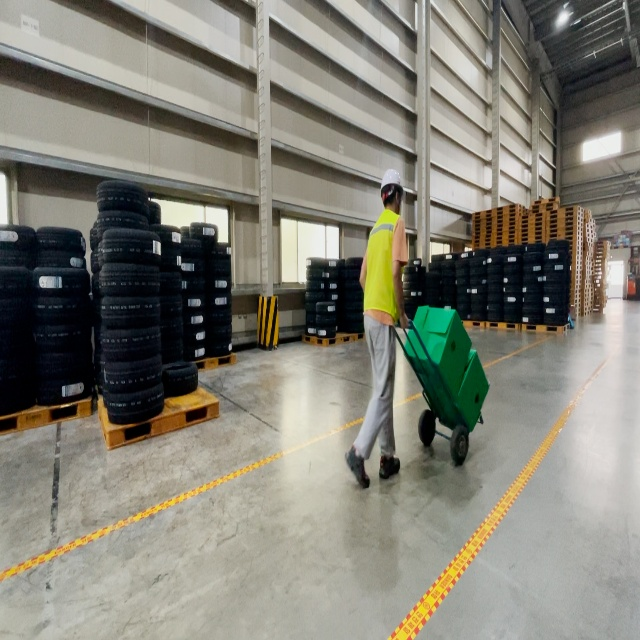Box: (402, 304, 473, 400), (424, 347, 490, 434)
Worker: (344, 168, 411, 490)
